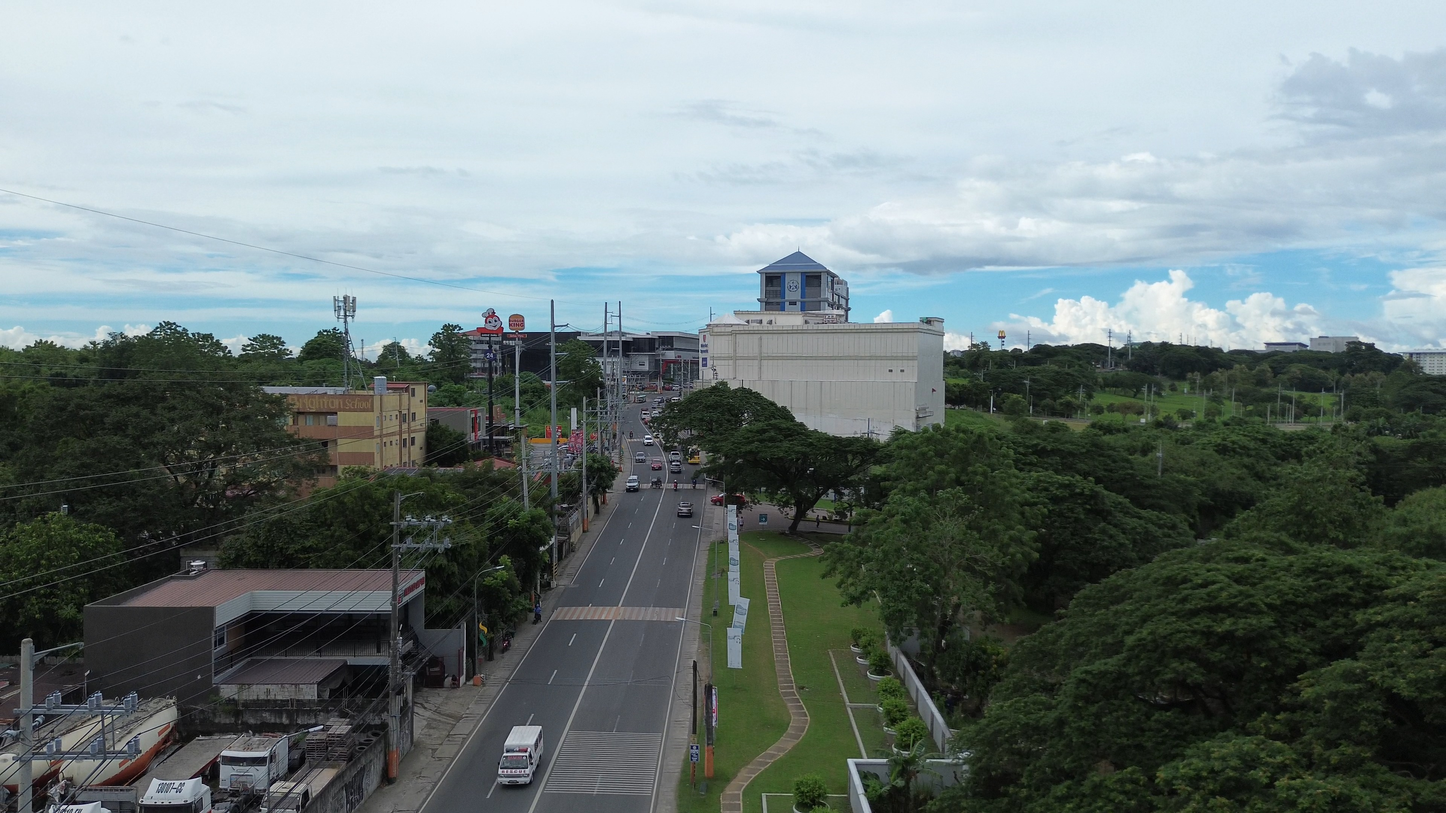car: (634, 451, 647, 463), (668, 450, 680, 461)
vehicle: (218, 736, 289, 796), (259, 768, 339, 813), (497, 726, 543, 784), (139, 777, 212, 813), (677, 501, 693, 517), (727, 494, 747, 506), (625, 475, 639, 492), (687, 451, 700, 465), (669, 460, 682, 473), (651, 458, 663, 470), (650, 476, 662, 488), (668, 450, 680, 462), (643, 434, 653, 445), (669, 396, 681, 402)
